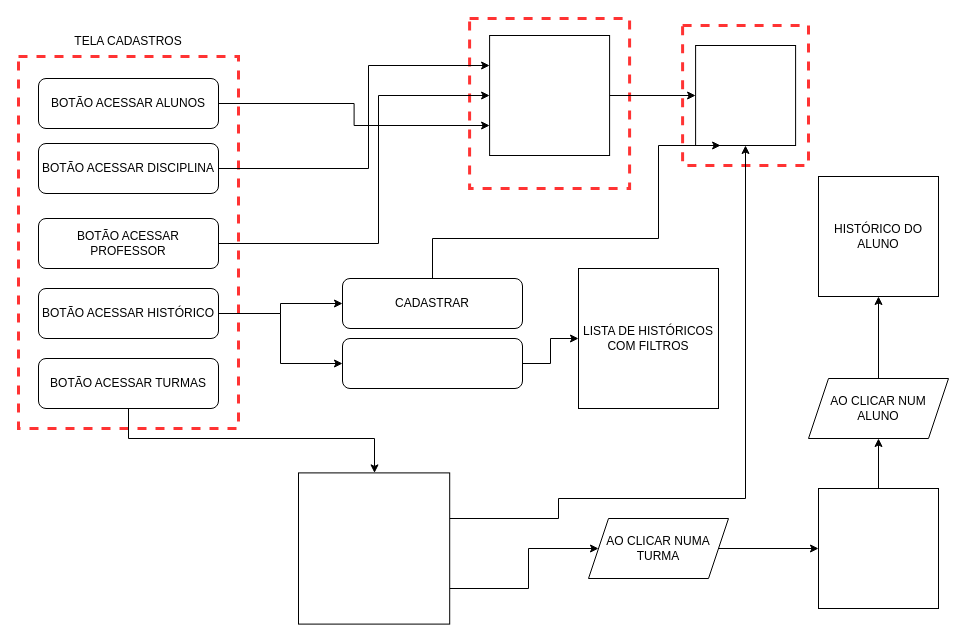
Image size: 966x642. Some labels were removed from this diagram. Each missing label, with the box of its shape:
LISTA DE CADASTROS COM BOTÃO DE ADICIONAR, ATUALIZAR DELETAR: (489, 34, 610, 156)
LISTA DE TURMAS COM BOTÃO DE ADICIONAR, ATUALIZAR DELETAR VISUALIZAR TURMA: (298, 472, 450, 624)
LISTAR: (342, 338, 522, 388)
NOME E FOTO DE TODOS OS ALUNOS DA TURMA: (818, 488, 938, 608)
TELA DE CADASTRO: (695, 44, 796, 146)
